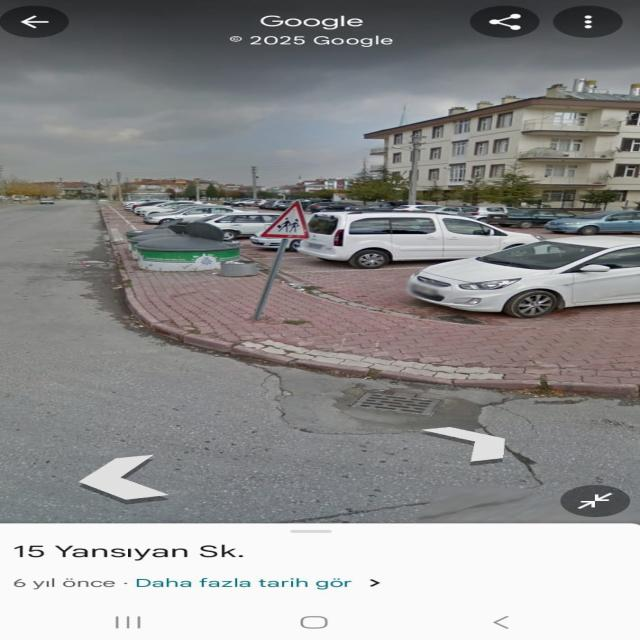okul_gecidi: (260, 201, 309, 239)
